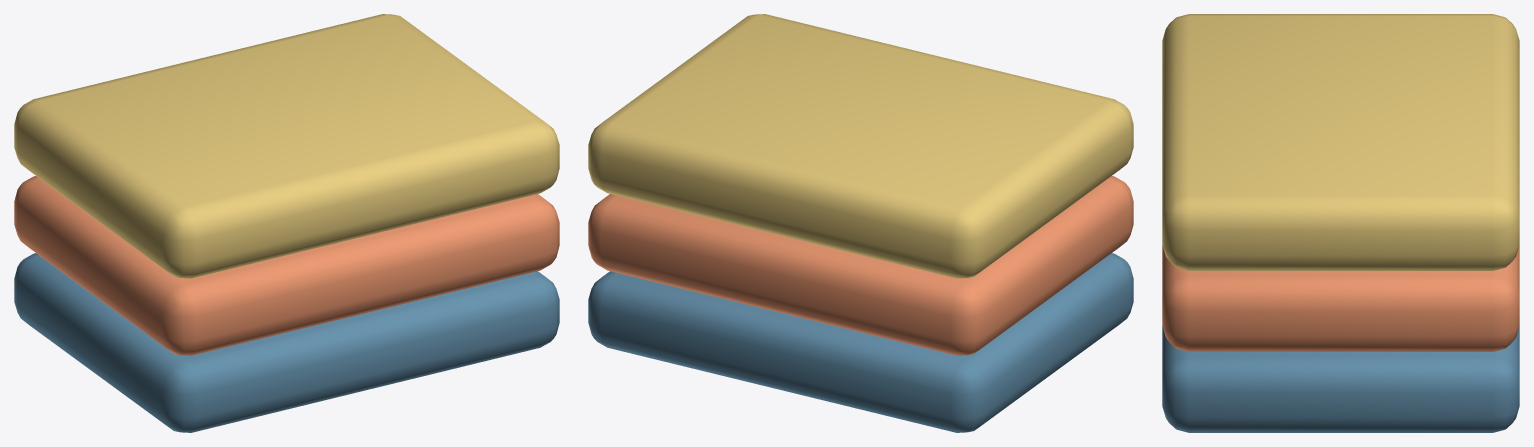
Rendered from book-stack.glb.
3 renders of one model, left to right at view 1: azimuth 30°, elevation 25°; view 2: azimuth 150°, elevation 25°; view 3: azimuth 270°, elevation 25°, orthographic. The views are drawn at different scales.
Parts seen in each view (by area): view 1: book.002, book, book.001; view 2: book.002, book, book.001; view 3: book.002, book, book.001.
Boxes of the visible parts, x1,y1,x2,y2 form: book.002: [14, 14, 559, 278]; book: [14, 253, 559, 432]; book.001: [14, 176, 559, 355]; book.002: [588, 14, 1133, 278]; book: [588, 253, 1133, 432]; book.001: [588, 176, 1133, 355]; book.002: [1162, 14, 1519, 270]; book: [1162, 326, 1519, 432]; book.001: [1162, 245, 1519, 351].
Bounding box in the file's own units: 0.32 × 0.1745 × 0.24.
